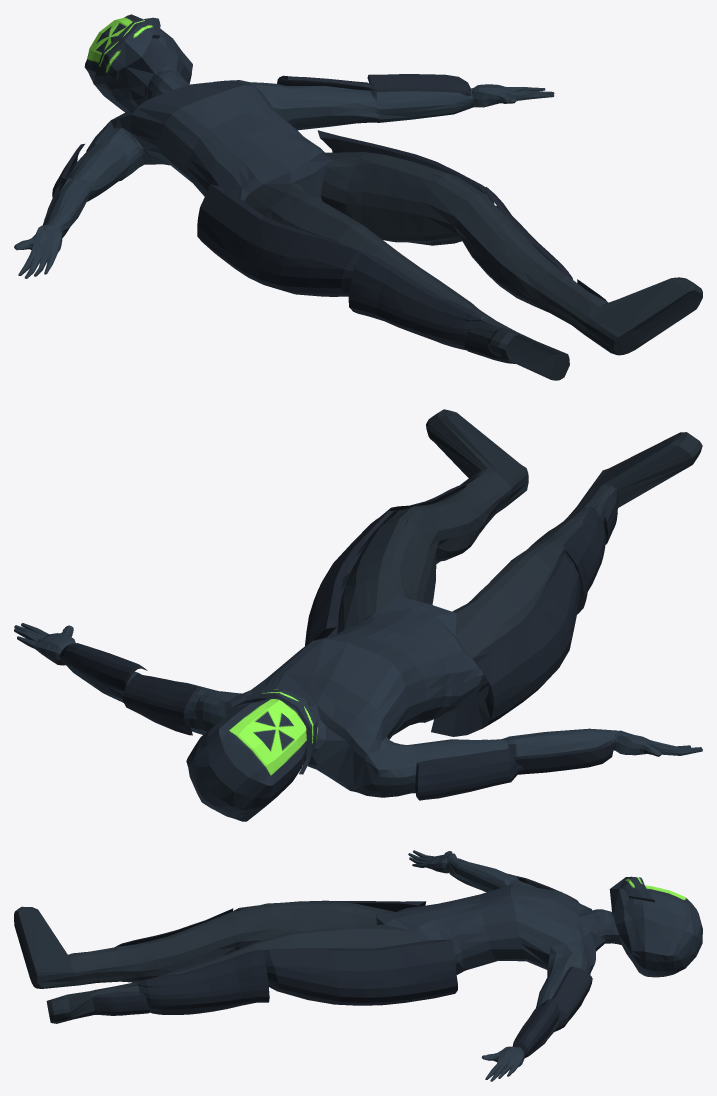
File: Bastion_Die_000015.obj
3 views of the same model, one above another, from view 1: azimuth 30°, elevation 25°; view 2: azimuth 150°, elevation 25°; view 3: azimuth 270°, elevation 25° (orthographic). The views are drawn at different scales.
Parts seen in each view (by area): view 1: Cube.002; view 2: Cube.002; view 3: Cube.002.
Boxes of the visible parts, x1,y1,x2,y2 form: Cube.002: [14, 14, 702, 380]; Cube.002: [14, 409, 702, 821]; Cube.002: [14, 850, 702, 1081].
Bounding box in the file's own units: 3.21 × 0.6733 × 3.99.
